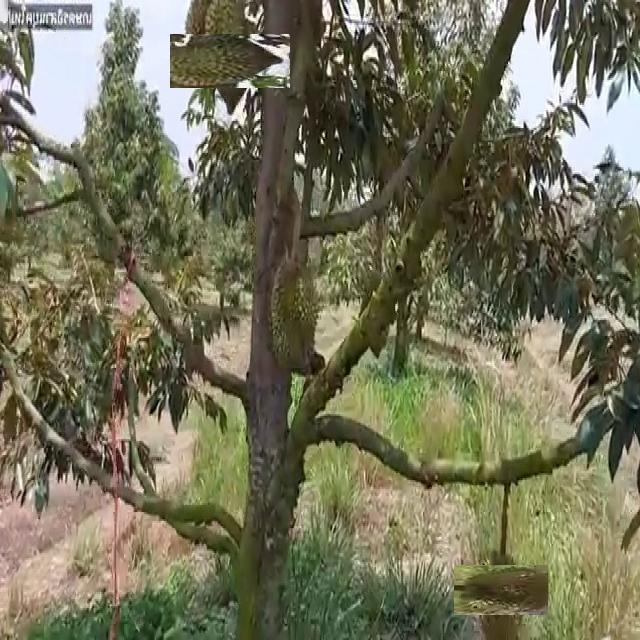durian: (186, 18, 274, 105), (268, 249, 322, 379), (465, 554, 537, 627)
